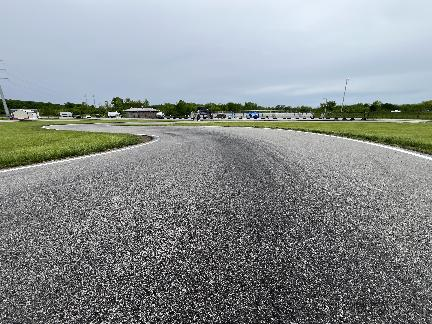Grass: (160, 122, 431, 153), (0, 120, 142, 167)
Lane: (0, 124, 431, 323)
